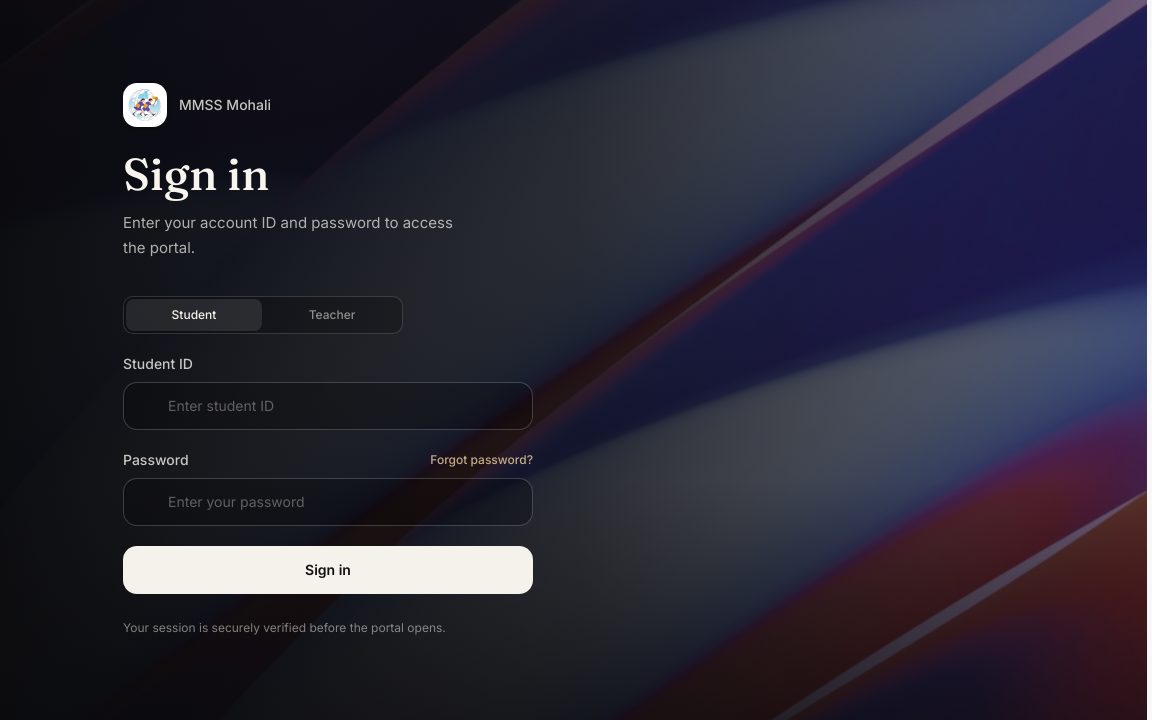
Test: LoginPage › blocks an empty submission before contacting the server
Click the button "Sign in" at (328, 570), box x1=123 y1=546 x2=533 y2=594
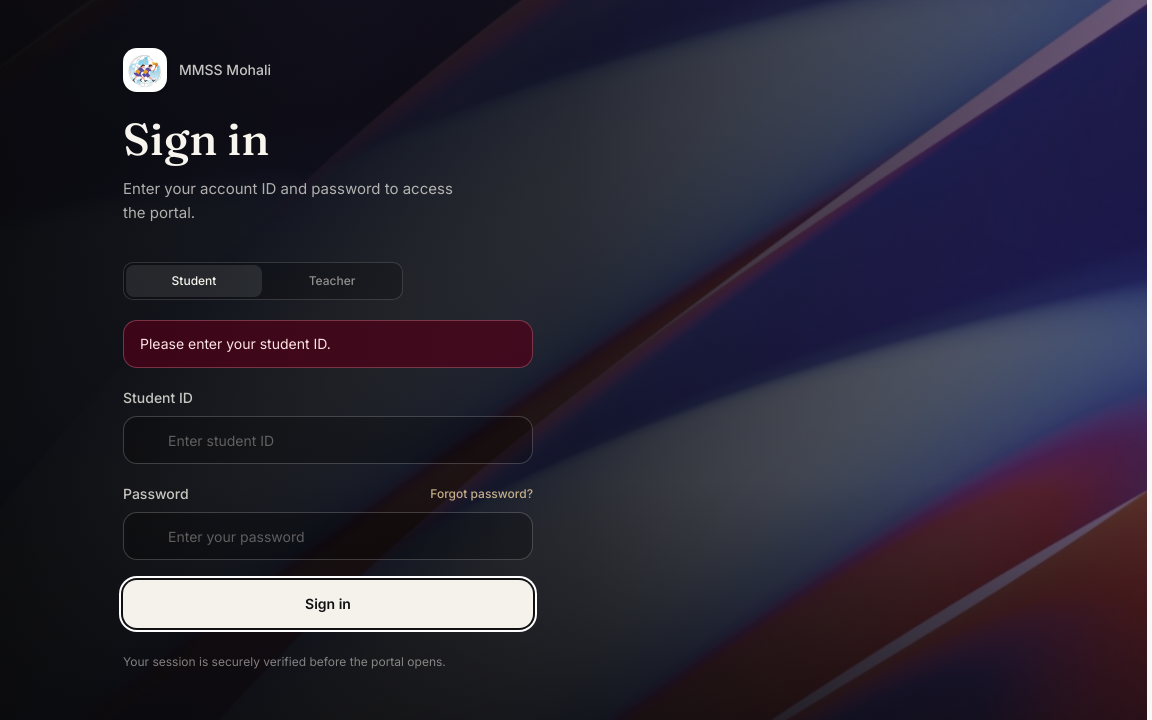
Now the message reads "Please enter your student ID.", box x1=140 y1=334 x2=331 y2=352
